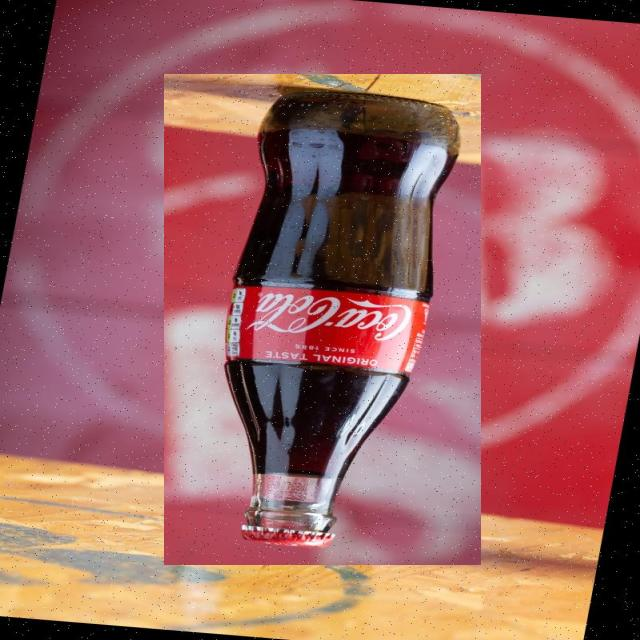coca-cola: (164, 74, 481, 565)
